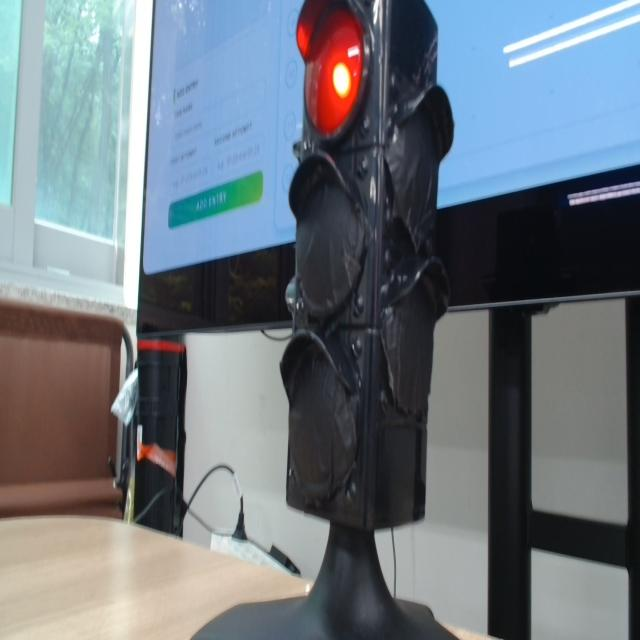red_light: (298, 9, 364, 137)
